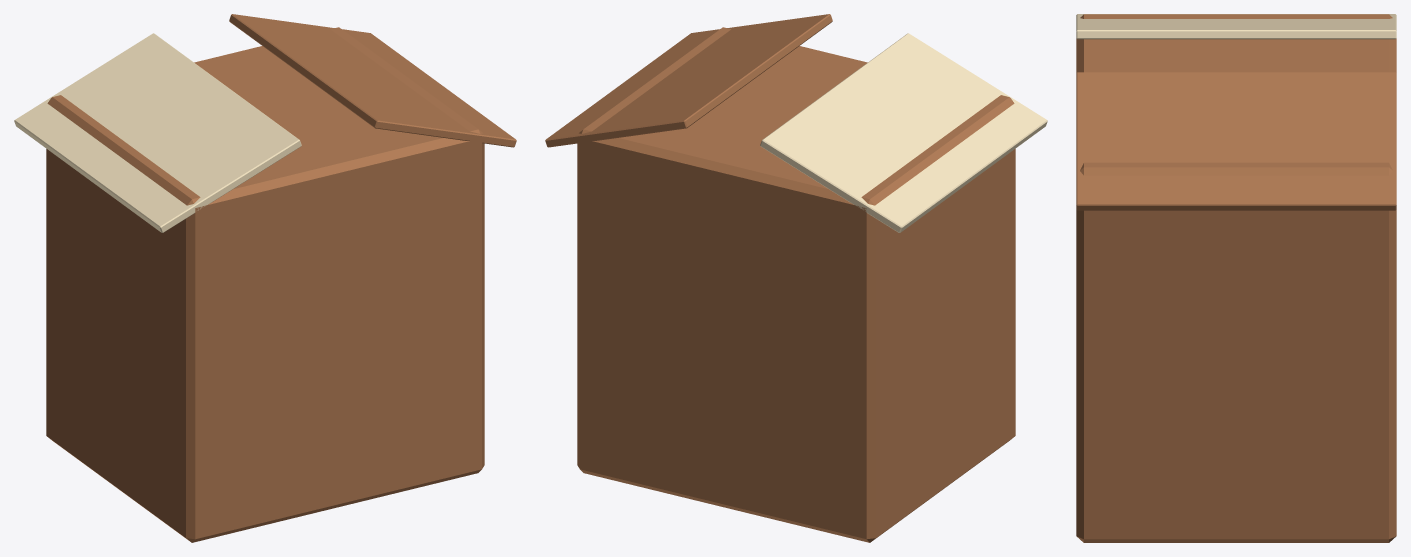
Rendered from Prop_CardboardHideout.fbx.
The picture shows the model from 3 angles, left to right: view 1: azimuth 30°, elevation 25°; view 2: azimuth 150°, elevation 25°; view 3: azimuth 270°, elevation 25°; orthographic projection. The views are drawn at different scales.
Parts seen in each view (by area): view 1: Box.001, FlapLeft, FlapRight; view 2: Box.001, FlapLeft, FlapRight; view 3: Box.001, FlapRight, FlapLeft.
Part boxes in pixels (box(x1,y1,x2,y2)): Box.001: box(46, 27, 484, 542); FlapLeft: box(14, 33, 301, 232); FlapRight: box(229, 14, 516, 147); Box.001: box(577, 27, 1015, 542); FlapLeft: box(760, 33, 1047, 232); FlapRight: box(545, 14, 832, 147); Box.001: box(1076, 14, 1396, 542); FlapRight: box(1076, 72, 1396, 210); FlapLeft: box(1076, 14, 1396, 39).
Size of the model in its own units: 1.2 by 1.22 by 0.85.
